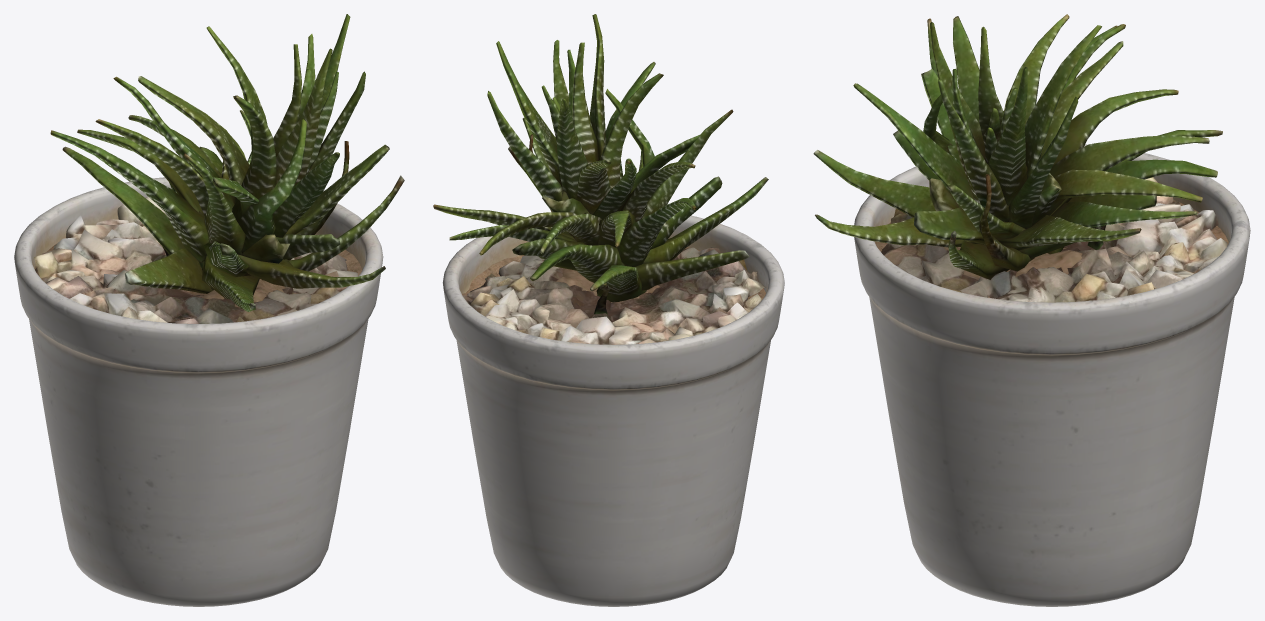
File: potted_plant_04.glb
The picture shows the model from 3 angles, left to right: view 1: azimuth 30°, elevation 25°; view 2: azimuth 150°, elevation 25°; view 3: azimuth 270°, elevation 25°; orthographic projection. The views are drawn at different scales.
Parts seen in each view (by area): view 1: potted_plant_04_pot, potted_plant_04_plant, potted_plant_04_ground, potted_plant_04_dirt; view 2: potted_plant_04_pot, potted_plant_04_plant, potted_plant_04_ground, potted_plant_04_dirt; view 3: potted_plant_04_pot, potted_plant_04_plant, potted_plant_04_ground, potted_plant_04_dirt.
Boxes of the visible parts, left/top/right/bottom form: potted_plant_04_pot: left=14, top=177, right=383, bottom=606; potted_plant_04_plant: left=50, top=14, right=404, bottom=311; potted_plant_04_ground: left=34, top=196, right=357, bottom=323; potted_plant_04_dirt: left=34, top=238, right=362, bottom=307; potted_plant_04_pot: left=442, top=215, right=784, bottom=606; potted_plant_04_plant: left=433, top=14, right=768, bottom=314; potted_plant_04_ground: left=463, top=247, right=765, bottom=344; potted_plant_04_dirt: left=462, top=247, right=765, bottom=306; potted_plant_04_pot: left=854, top=144, right=1250, bottom=606; potted_plant_04_plant: left=813, top=14, right=1222, bottom=279; potted_plant_04_ground: left=881, top=177, right=1227, bottom=302; potted_plant_04_dirt: left=875, top=200, right=1228, bottom=297.
Size of the model in its own units: 0.1679 by 0.2675 by 0.1848.
Materials: 1 (1 with a texture image).
